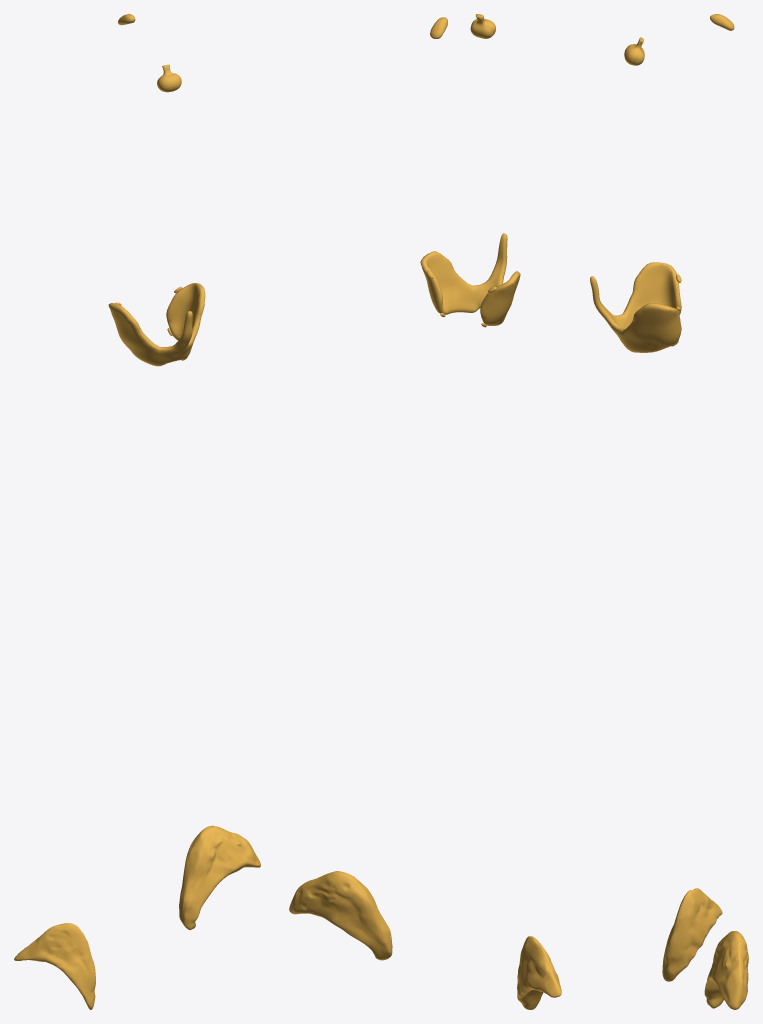
File: endocrine.glb
3 renders of one model, left to right at view 1: azimuth 30°, elevation 25°; view 2: azimuth 150°, elevation 25°; view 3: azimuth 270°, elevation 25°, orthographic. The views are drawn at different scales.
Visible parts, largest first — view 1: suprarenal-gland-left, thyroid-gland, suprarenal-gland-right; view 2: suprarenal-gland-left, thyroid-gland, suprarenal-gland-right; view 3: thyroid-gland, suprarenal-gland-right, suprarenal-gland-left.
Part boxes in pixels (box(x1,y1,x2,y2)): suprarenal-gland-left: box(179, 825, 260, 929); thyroid-gland: box(108, 283, 205, 366); suprarenal-gland-right: box(14, 923, 95, 1009); suprarenal-gland-left: box(289, 871, 392, 960); thyroid-gland: box(420, 233, 520, 325); suprarenal-gland-right: box(517, 936, 561, 1009); thyroid-gland: box(590, 262, 681, 352); suprarenal-gland-right: box(662, 888, 722, 981); suprarenal-gland-left: box(704, 931, 748, 1009).
Bounding box in the file's own units: 0.138 × 0.4994 × 0.072.
